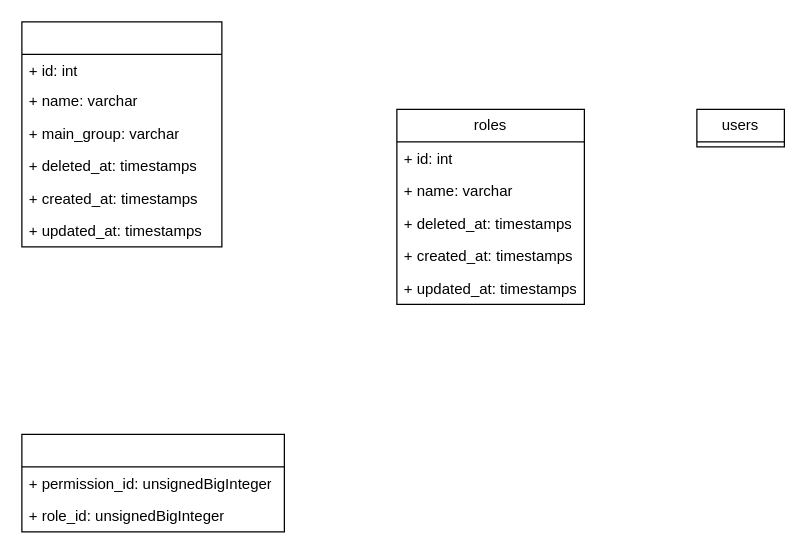
This 806x558 diagram has some shape labels left out. The box of each missing label's shape, as (x1, y1, x2, y2) in pixels:
permissions: (21, 21, 222, 247)
role_has_permissions: (21, 433, 284, 532)
